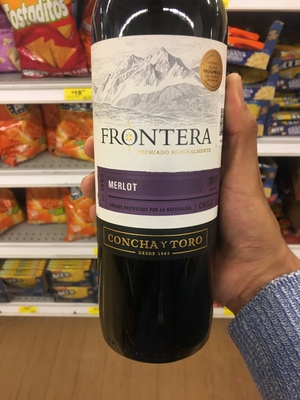frontera merlot: (78, 2, 231, 352)
